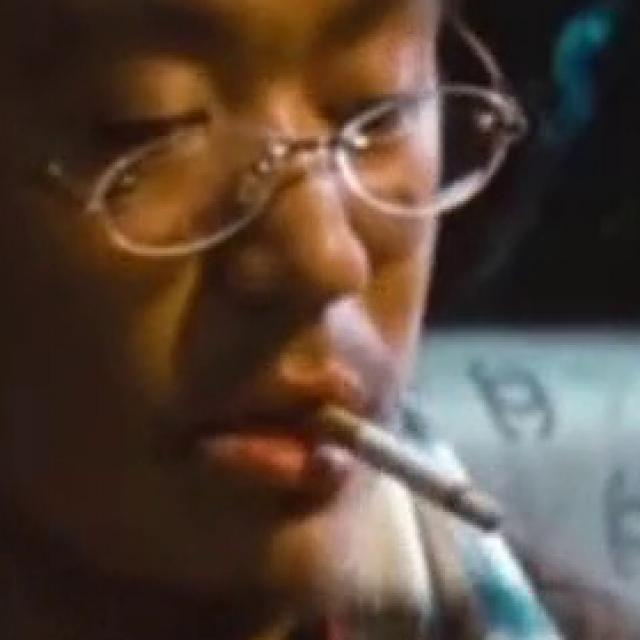smoking: (307, 402, 502, 528)
